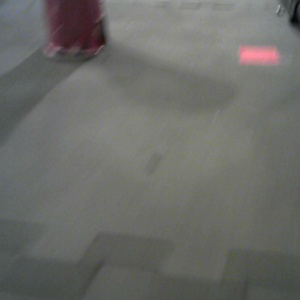Middle: (45, 1, 106, 61)
